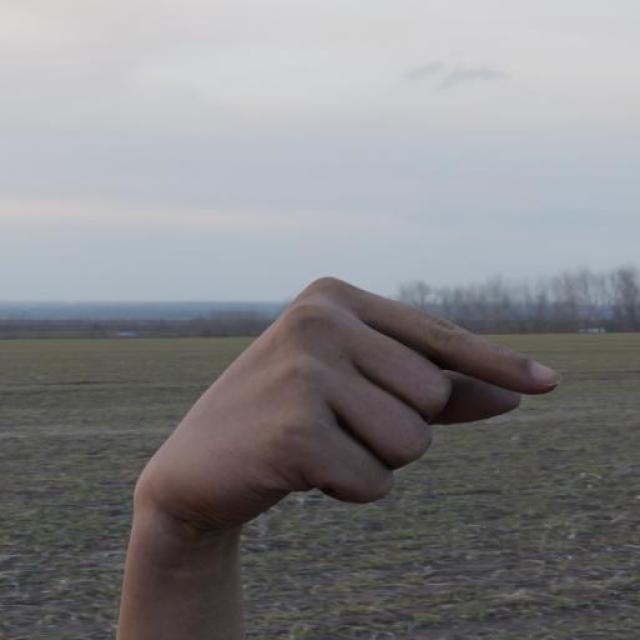Q: (124, 271, 566, 541)
